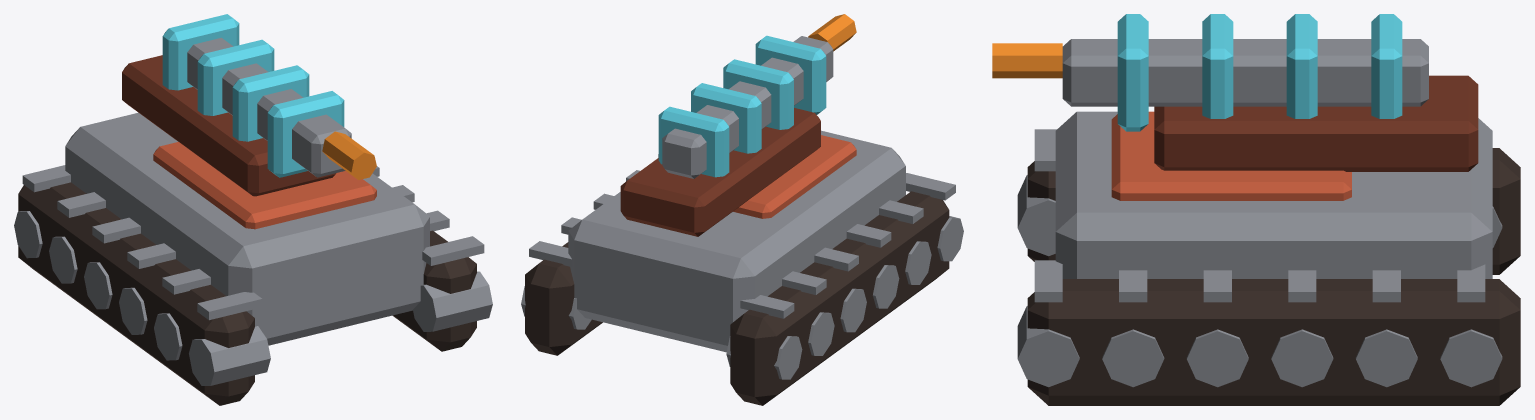
The model's file is u_trebuchet.glb.
3 renders of one model, left to right at view 1: azimuth 30°, elevation 25°; view 2: azimuth 150°, elevation 25°; view 3: azimuth 270°, elevation 25°, orthographic. The views are drawn at different scales.
Visible parts, largest first — view 1: u_trebuchet; view 2: u_trebuchet; view 3: u_trebuchet.
Part boxes in pixels (x1=…): u_trebuchet: x1=14, y1=14, x2=492, y2=405; u_trebuchet: x1=521, y1=14, x2=963, y2=405; u_trebuchet: x1=992, y1=14, x2=1520, y2=405.
Bounding box in the file's own units: 0.3719 × 0.32 × 0.5053.
